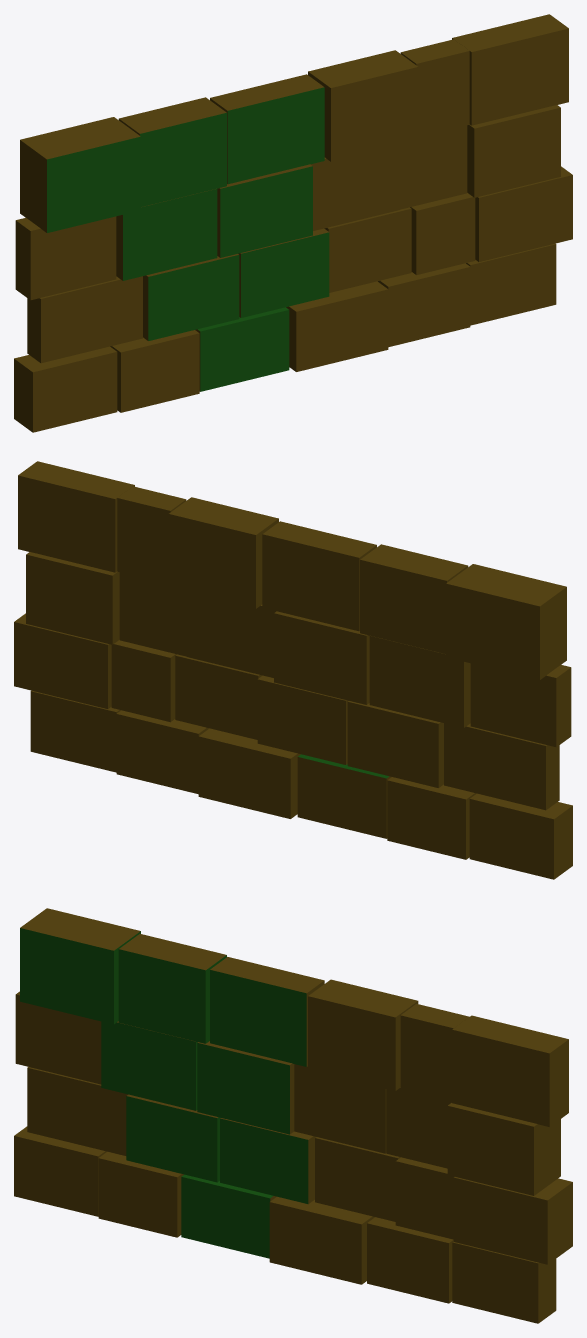
The model's file is RandWallMoss.fbx.
3 renders of one model, top to bottom at view 1: azimuth 30°, elevation 25°; view 2: azimuth 150°, elevation 25°; view 3: azimuth 330°, elevation 25°, orthographic.
Parts seen in each view (by area): view 1: Wall; view 2: Wall; view 3: Wall.
Boxes of the visible parts, left/top/right/bottom form: Wall: left=14, top=14, right=572, bottom=432; Wall: left=14, top=461, right=572, bottom=879; Wall: left=14, top=908, right=572, bottom=1323.
Size of the model in its own units: 3054 by 1487 by 266.
